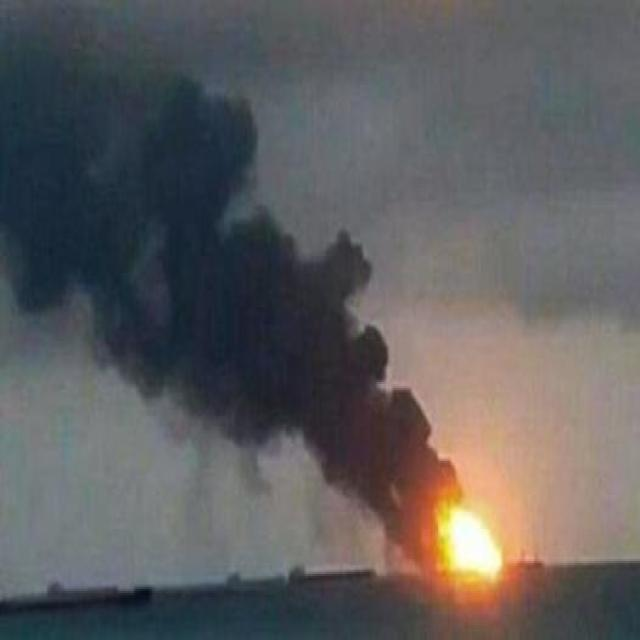Fire: (432, 481, 509, 601)
Smoke: (0, 6, 434, 569)
